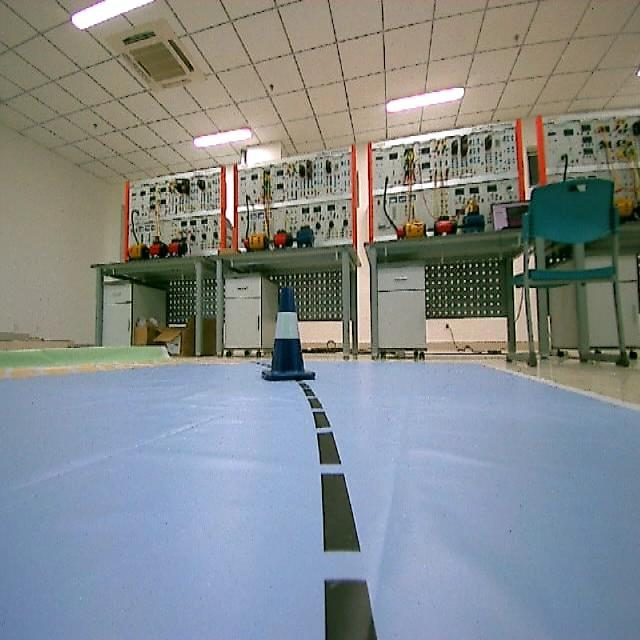obstacle: (256, 275, 321, 386)
